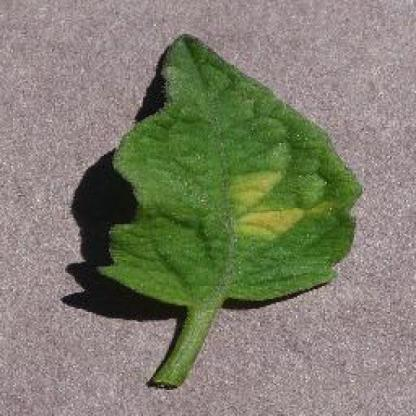Tomato_Leaf_Mold: (101, 38, 359, 294)
